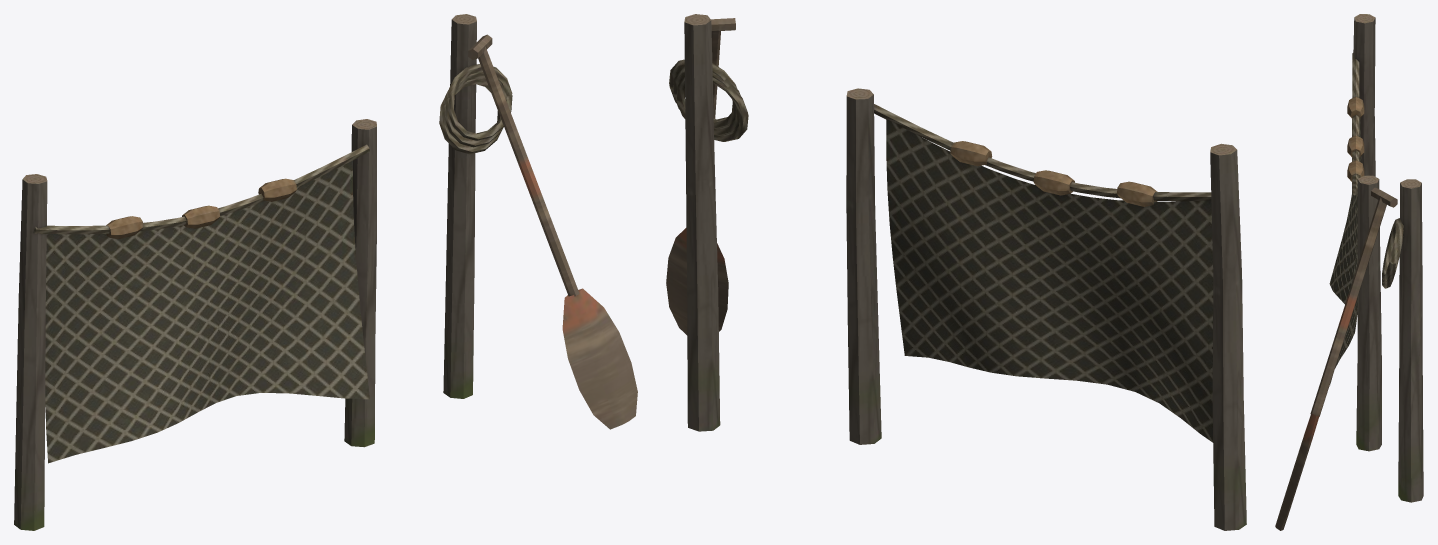
The model's file is fm_paddle_and_net_stakes.glb.
The picture shows the model from 3 angles, left to right: view 1: azimuth 30°, elevation 25°; view 2: azimuth 150°, elevation 25°; view 3: azimuth 270°, elevation 25°; orthographic projection. The views are drawn at different scales.
Visible parts, largest first — view 1: fm_paddle_and_net_stakes; view 2: fm_paddle_and_net_stakes; view 3: fm_paddle_and_net_stakes.
Part boxes in pixels (<box>): fm_paddle_and_net_stakes: <box>14,14,637,530</box>; fm_paddle_and_net_stakes: <box>666,14,1246,530</box>; fm_paddle_and_net_stakes: <box>1275,14,1423,530</box>.
Bounding box in the file's own units: 2.13 × 1.32 × 0.5624.
1 material, 1 textured.
